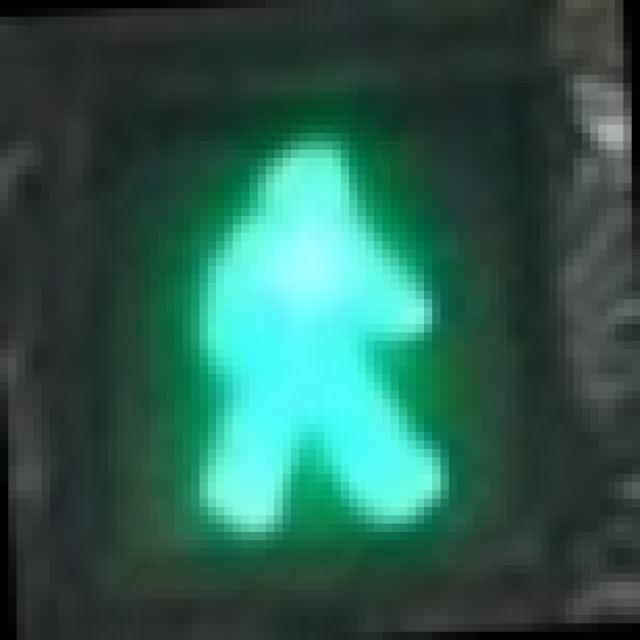green_light: (142, 91, 466, 532)
